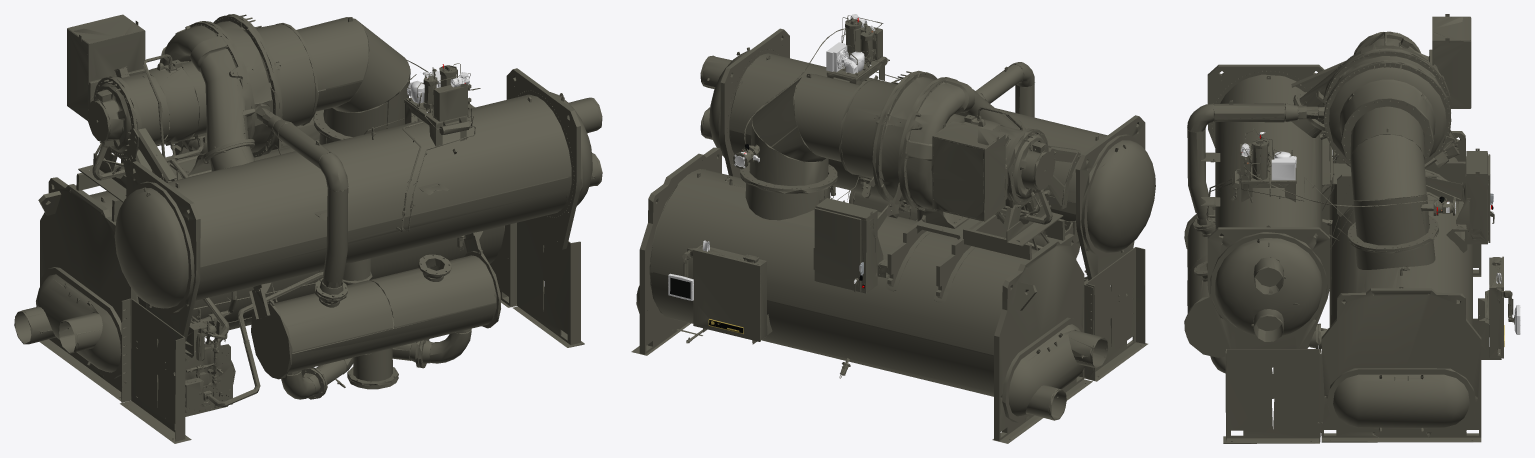
The model's file is chiller_water.glb.
The picture shows the model from 3 angles, left to right: view 1: azimuth 30°, elevation 25°; view 2: azimuth 150°, elevation 25°; view 3: azimuth 270°, elevation 25°; orthographic projection. The views are drawn at different scales.
Visible parts, largest first — view 1: Mesh_159; view 2: Mesh_159; view 3: Mesh_159.
Boxes of the visible parts, x1,y1,x2,y2 form: Mesh_159: [14, 14, 602, 443]; Mesh_159: [631, 14, 1155, 443]; Mesh_159: [1184, 14, 1520, 443].
Size of the model in its own units: 5.63 by 3.6 by 3.96.
2 materials, 2 textured.
